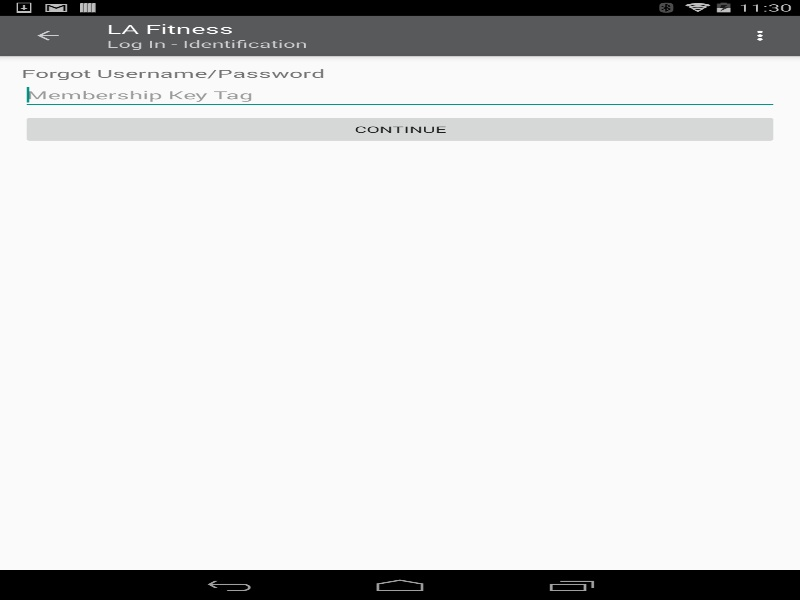Button: (21, 114, 778, 144), (10, 15, 85, 55)
Input: (21, 80, 778, 109)
